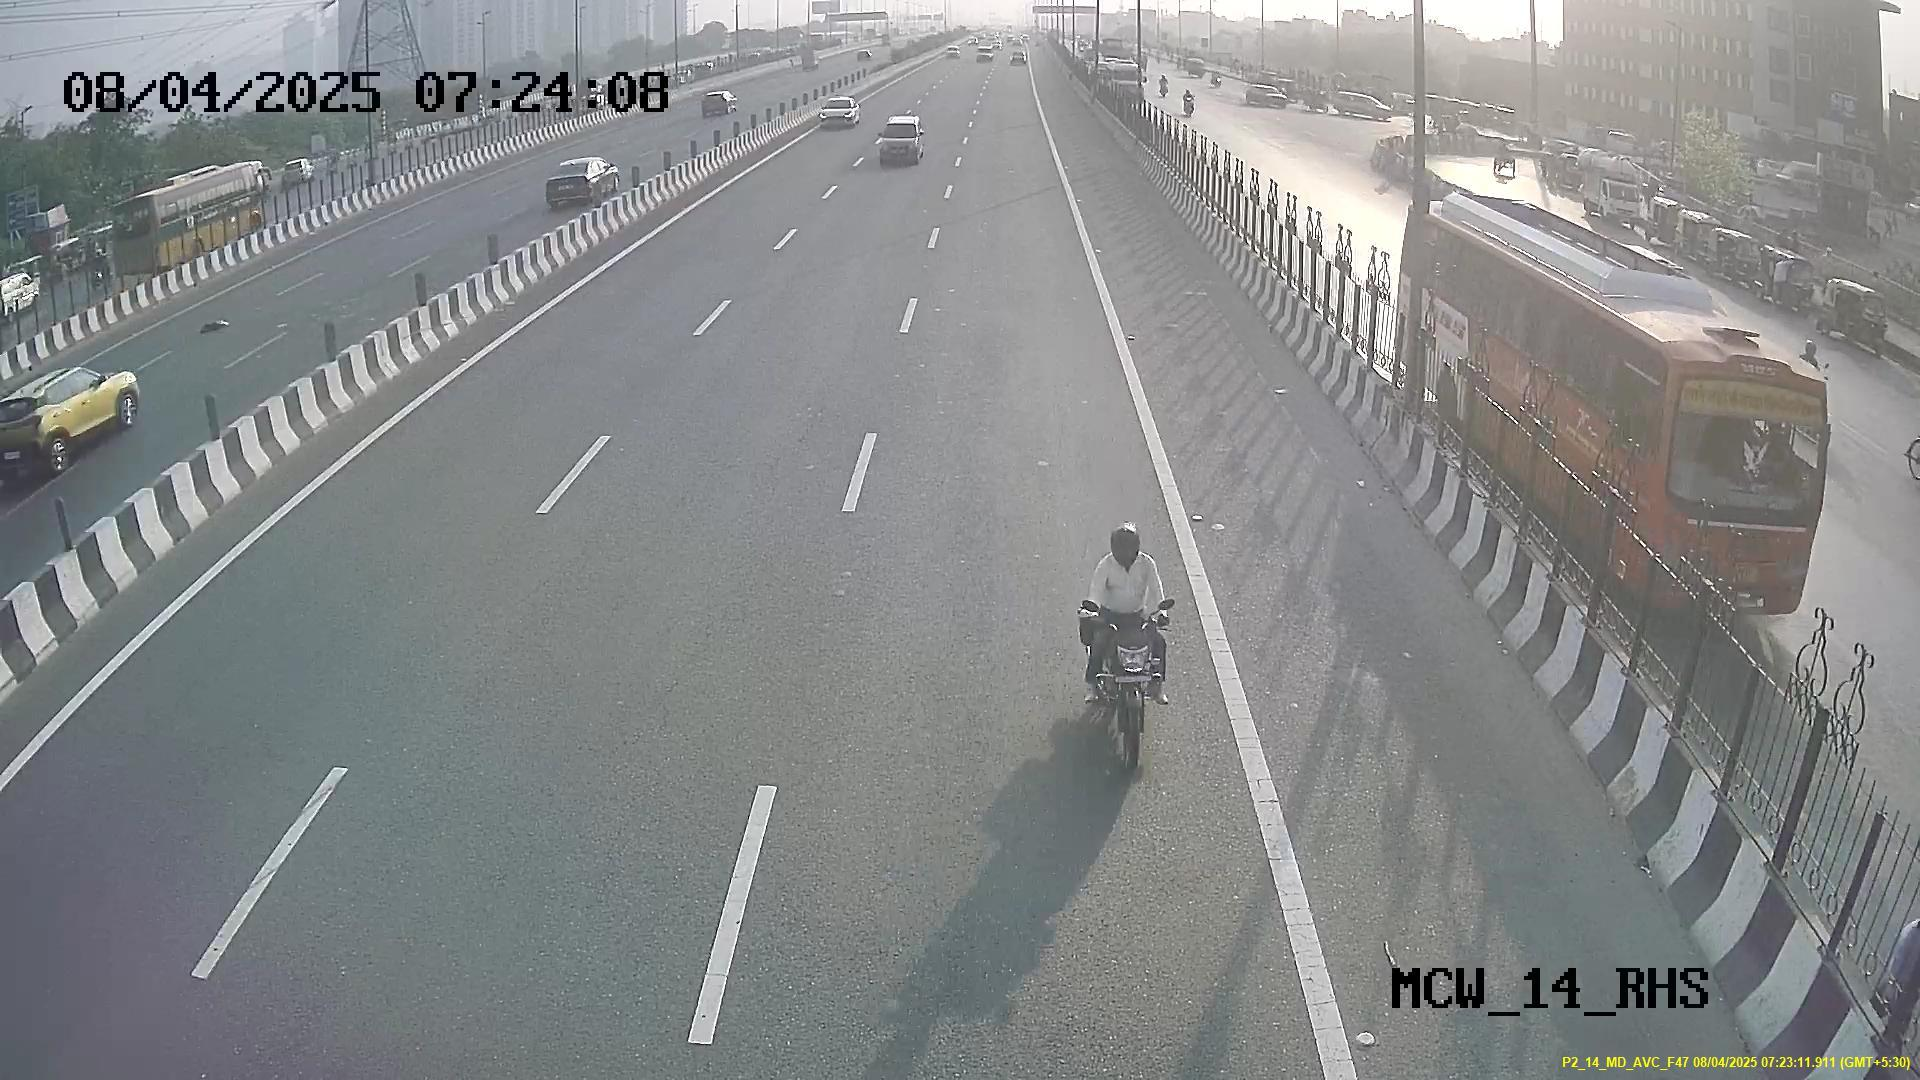bike: (1062, 518, 1184, 774)
